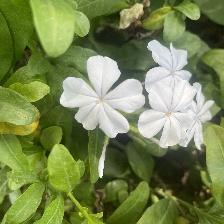chitrak: (67, 60, 143, 141), (142, 83, 196, 148), (145, 37, 192, 89), (184, 88, 215, 145)
